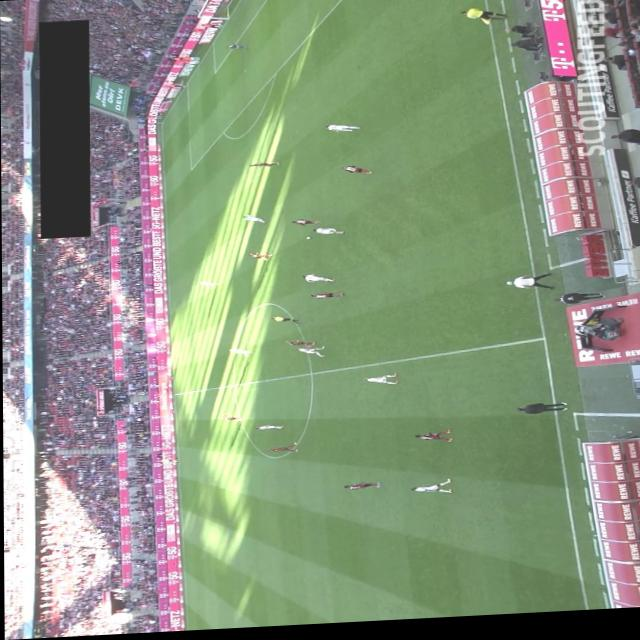goalkeeper: (226, 45, 248, 52)
player: (409, 482, 452, 499), (413, 432, 452, 448), (363, 376, 398, 389), (301, 275, 335, 287), (296, 348, 326, 361), (340, 167, 372, 179), (324, 126, 361, 136), (342, 484, 380, 493), (266, 446, 297, 456), (311, 230, 345, 238), (291, 220, 321, 229), (228, 349, 252, 360), (242, 215, 266, 226), (310, 294, 344, 301), (248, 254, 272, 263), (285, 341, 315, 348), (249, 163, 279, 169), (254, 426, 284, 432), (221, 416, 242, 423), (197, 282, 219, 288)
referee: (459, 11, 509, 29), (270, 317, 299, 327), (157, 458, 179, 465)
